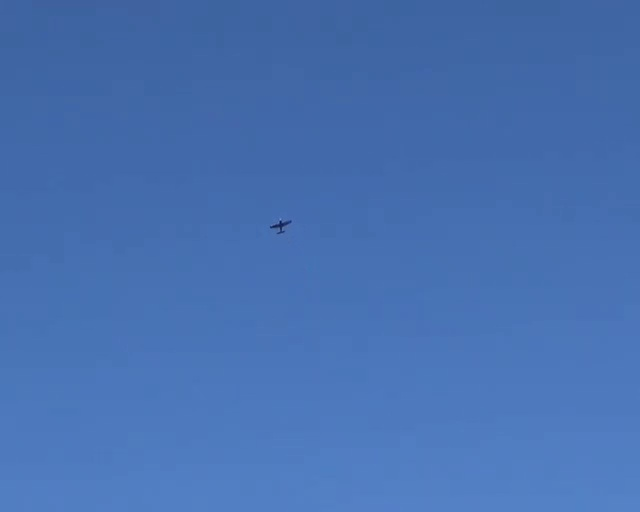AIRPLANE: (269, 217, 292, 234)
